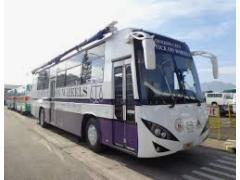bus: (30, 26, 211, 160), (205, 91, 236, 116)
